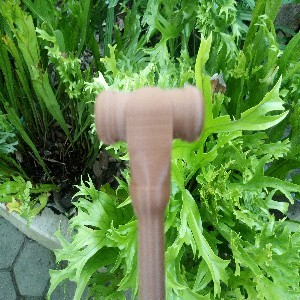palu: (94, 84, 205, 300)
